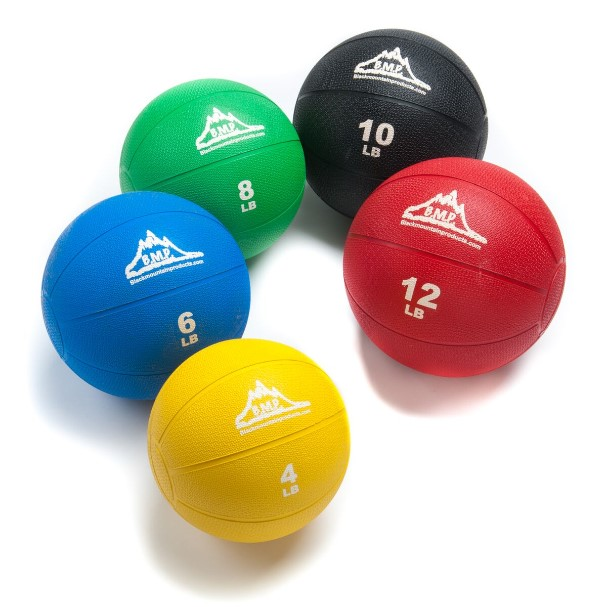blue ball: (39, 190, 253, 403)
red ball: (341, 155, 568, 380)
